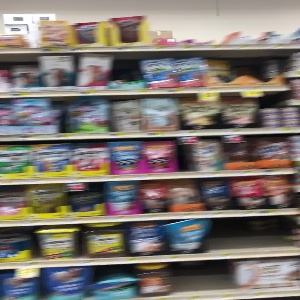void: (208, 215, 300, 257), (169, 260, 232, 299)
